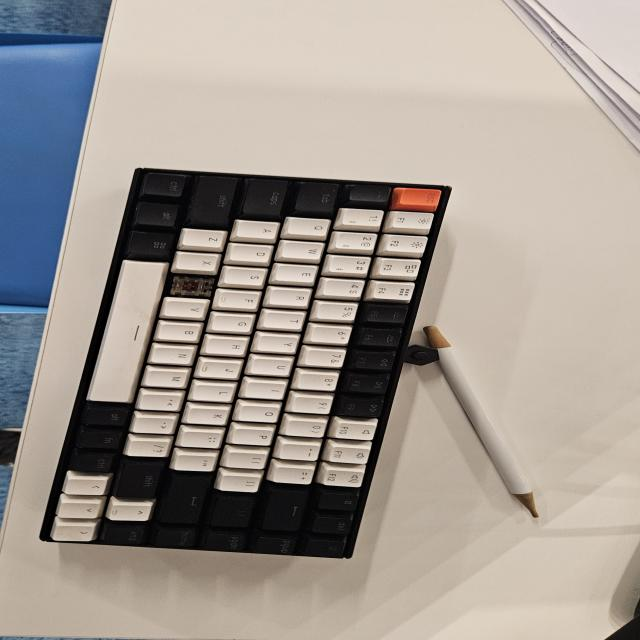C: (168, 275, 206, 300)
